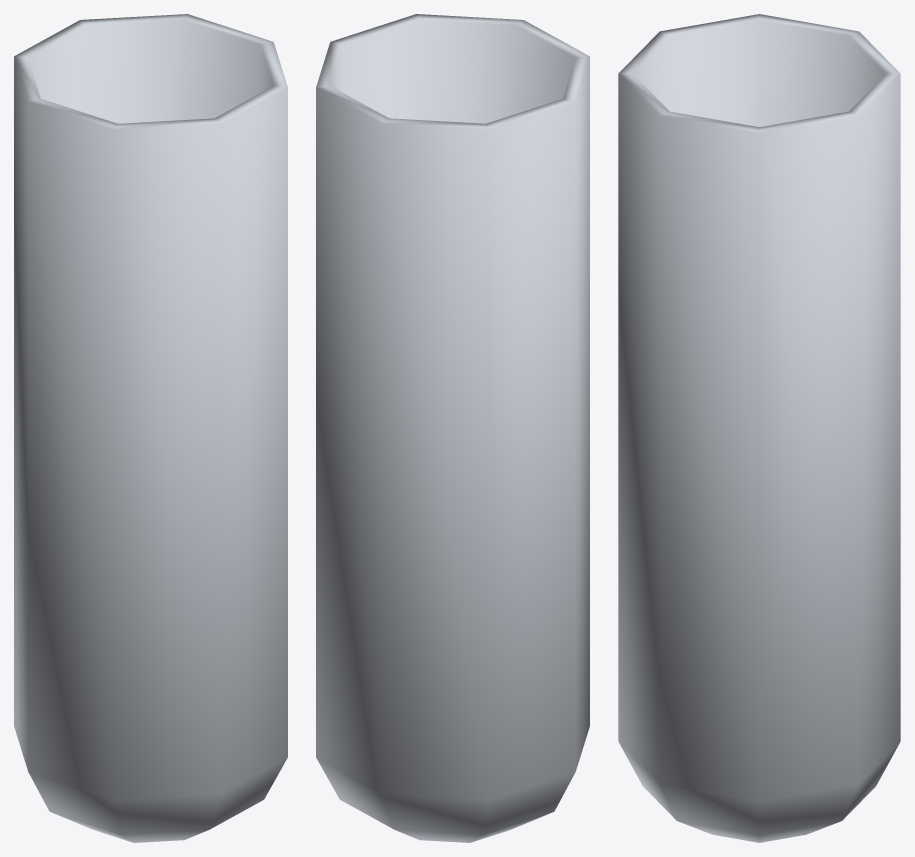
The model's file is bottle_glassware_boiling_tube_large.fbx.
3 renders of one model, left to right at view 1: azimuth 30°, elevation 25°; view 2: azimuth 150°, elevation 25°; view 3: azimuth 270°, elevation 25°, orthographic.
Parts seen in each view (by area): view 1: bottle_glassware_boiling_tube_large; view 2: bottle_glassware_boiling_tube_large; view 3: bottle_glassware_boiling_tube_large.
Part boxes in pixels (box(x1,y1,x2,y2)): bottle_glassware_boiling_tube_large: box(14, 14, 287, 842); bottle_glassware_boiling_tube_large: box(316, 14, 589, 842); bottle_glassware_boiling_tube_large: box(618, 14, 900, 842).
Size of the model in its own units: 776 by 2248 by 776.
Materials: 1 (1 with a texture image).
